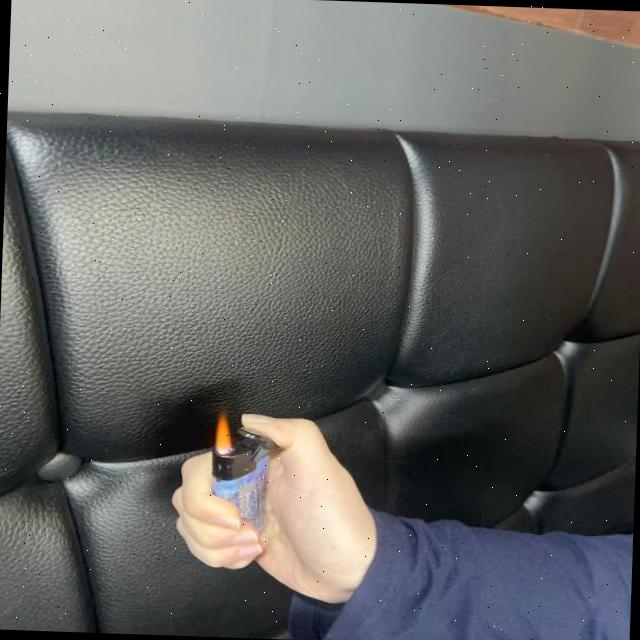fire: (214, 414, 234, 454)
